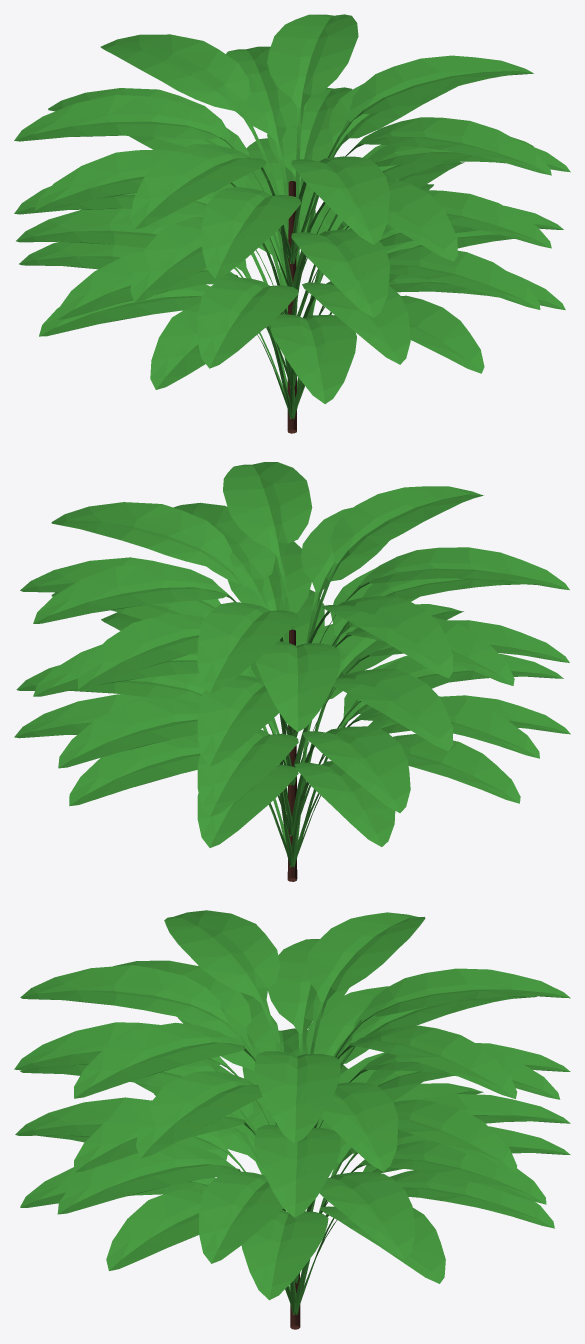
The model's file is big_plant.fbx.
3 views of the same model, one above another, from view 1: azimuth 30°, elevation 25°; view 2: azimuth 150°, elevation 25°; view 3: azimuth 270°, elevation 25° (orthographic).
Parts seen in each view (by area): view 1: Circle.037; view 2: Circle.037; view 3: Circle.037.
Part boxes in pixels (x1,y1,x2,y2): Circle.037: [14, 14, 570, 433]; Circle.037: [14, 462, 570, 881]; Circle.037: [14, 910, 570, 1329].
Size of the model in its own units: 488 by 314 by 481.
